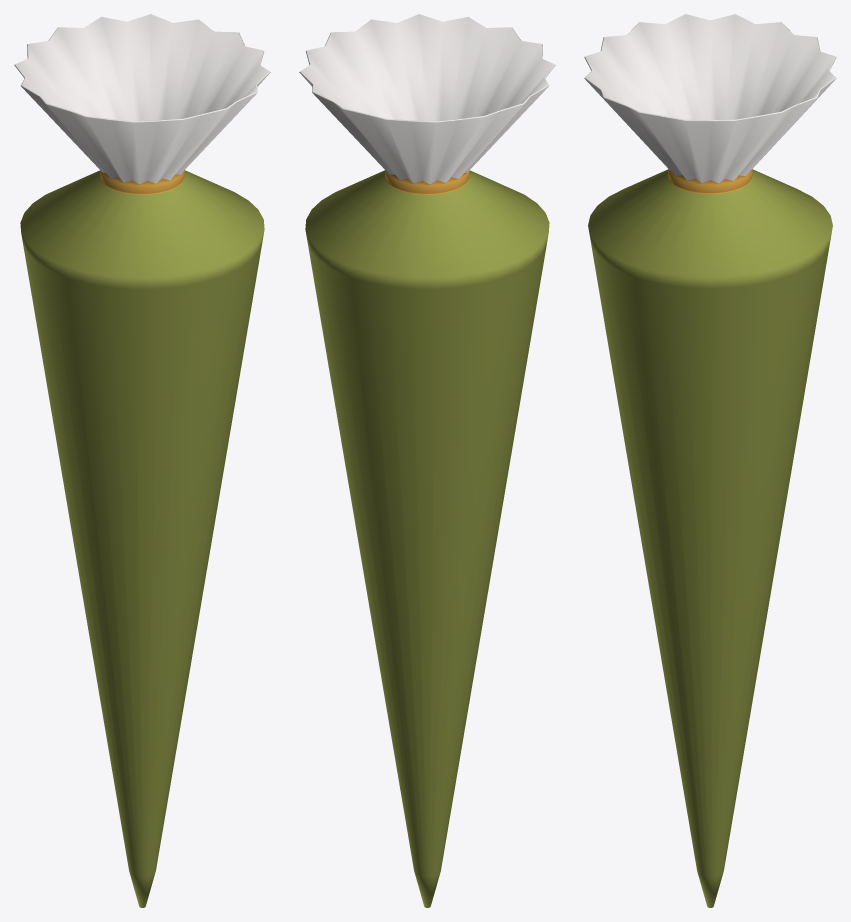
Rendered from piping bag matcha.fbx.
The picture shows the model from 3 angles, left to right: view 1: azimuth 30°, elevation 25°; view 2: azimuth 150°, elevation 25°; view 3: azimuth 270°, elevation 25°; orthographic projection.
Visible parts, largest first — view 1: Cylinder; view 2: Cylinder; view 3: Cylinder.
Part boxes in pixels (x1,y1,x2,y2): Cylinder: (14,14,270,907); Cylinder: (299,14,555,907); Cylinder: (584,14,836,907).
Size of the model in its own units: 114 by 417 by 114.
1 material, 1 textured.
